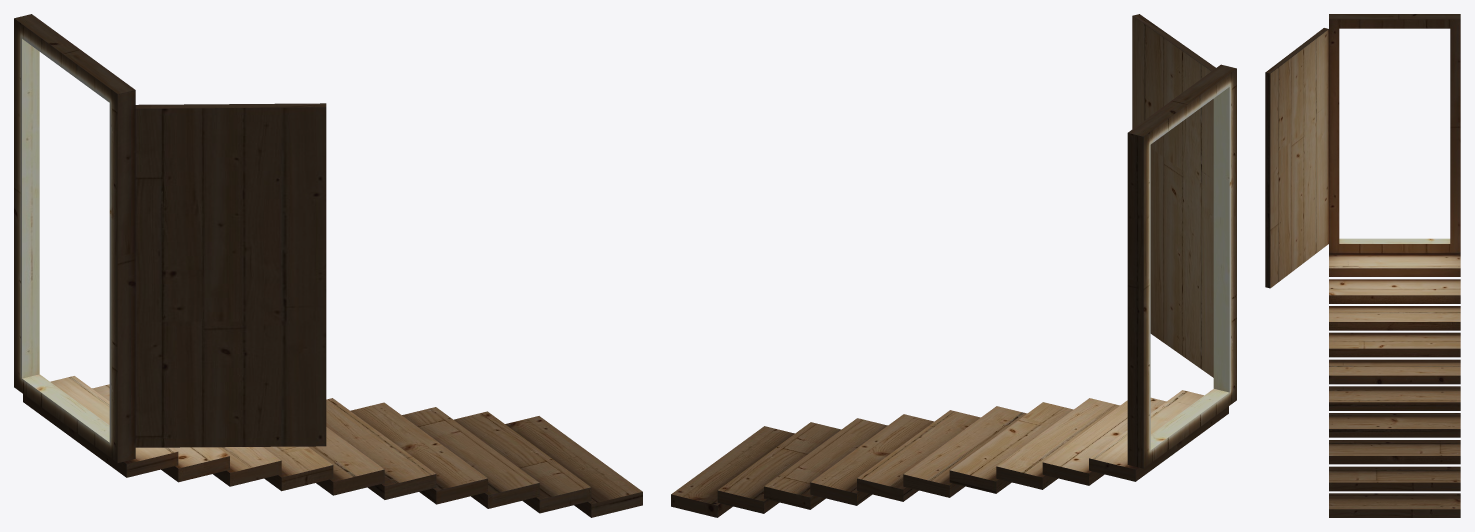
3 views of the same model, side by side, from view 1: azimuth 30°, elevation 25°; view 2: azimuth 150°, elevation 25°; view 3: azimuth 270°, elevation 25° (orthographic). The views are drawn at different scales.
Parts seen in each view (by area): view 1: Doorway.Textured.Bake2_0; view 2: Doorway.Textured.Bake2_0; view 3: Doorway.Textured.Bake2_0.
Boxes of the visible parts, bbox=[...] form: Doorway.Textured.Bake2_0: bbox=[14, 14, 642, 517]; Doorway.Textured.Bake2_0: bbox=[671, 14, 1236, 517]; Doorway.Textured.Bake2_0: bbox=[1265, 14, 1460, 517].
Size of the model in its own units: 5.84 by 5.74 by 2.97.
1 material, 1 textured.
